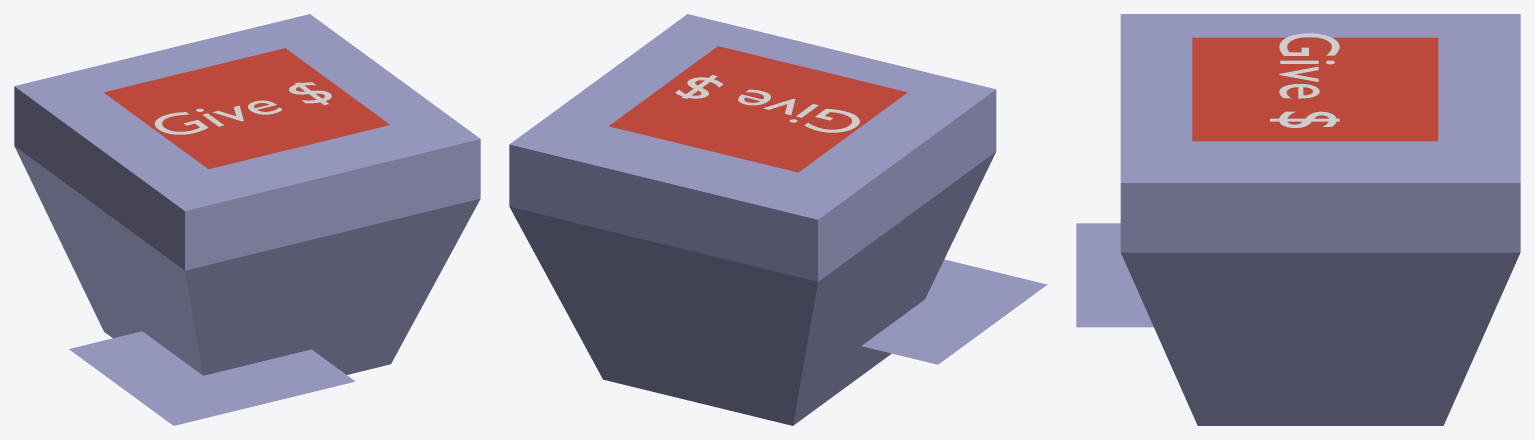
The model's file is pay_center.fbx.
3 views of the same model, side by side, from view 1: azimuth 30°, elevation 25°; view 2: azimuth 150°, elevation 25°; view 3: azimuth 270°, elevation 25° (orthographic). The views are drawn at different scales.
Parts seen in each view (by area): view 1: Cube, Plane, Text; view 2: Cube, Plane, Text; view 3: Cube, Plane, Text.
Boxes of the visible parts, x1,y1,x2,y2 form: Cube: (14, 14, 480, 425); Plane: (104, 48, 389, 169); Text: (154, 82, 331, 134); Cube: (509, 14, 1047, 425); Plane: (609, 46, 907, 172); Text: (675, 75, 859, 132); Cube: (1076, 14, 1520, 425); Plane: (1192, 37, 1438, 141); Text: (1270, 33, 1339, 127).
Size of the model in its own units: 358 by 258 by 361.
